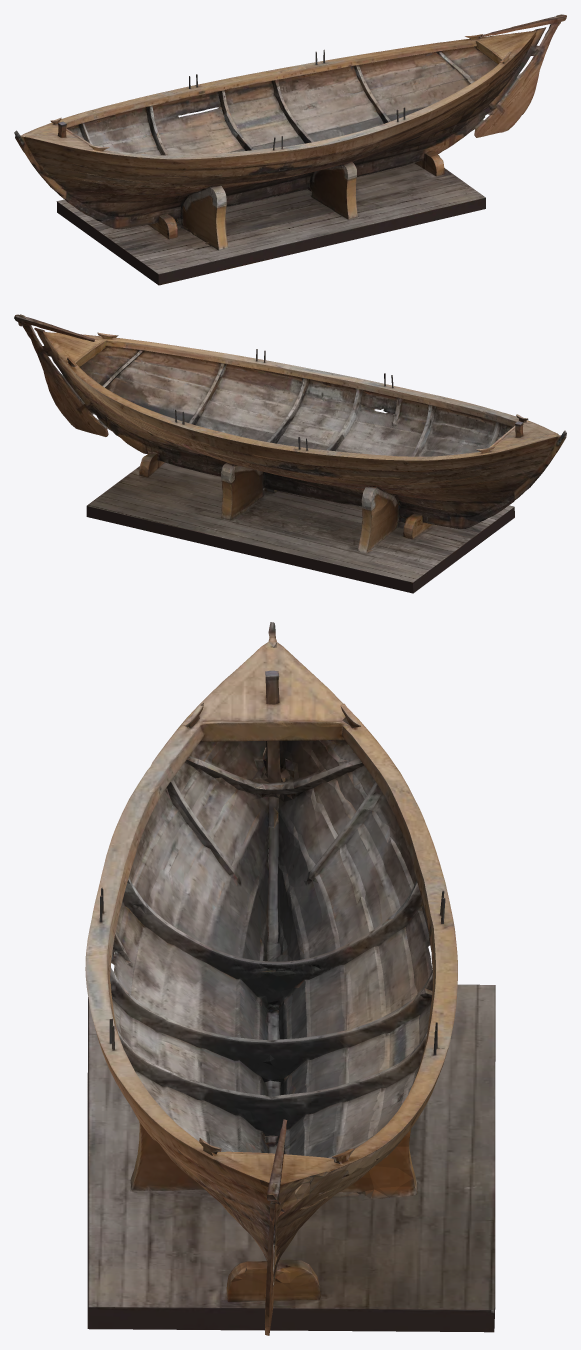
Rendered from venus.glb.
3 renders of one model, top to bottom at view 1: azimuth 30°, elevation 25°; view 2: azimuth 150°, elevation 25°; view 3: azimuth 270°, elevation 25°, orthographic. The views are drawn at different scales.
Visible parts, largest first — view 1: Object_2; view 2: Object_2; view 3: Object_2.
Boxes of the visible parts, x1,y1,x2,y2 form: Object_2: (14,14,566,285); Object_2: (14,314,566,593); Object_2: (85,622,495,1335).
Size of the model in its own units: 6.26 by 1.62 by 2.02.
1 material, 1 textured.
